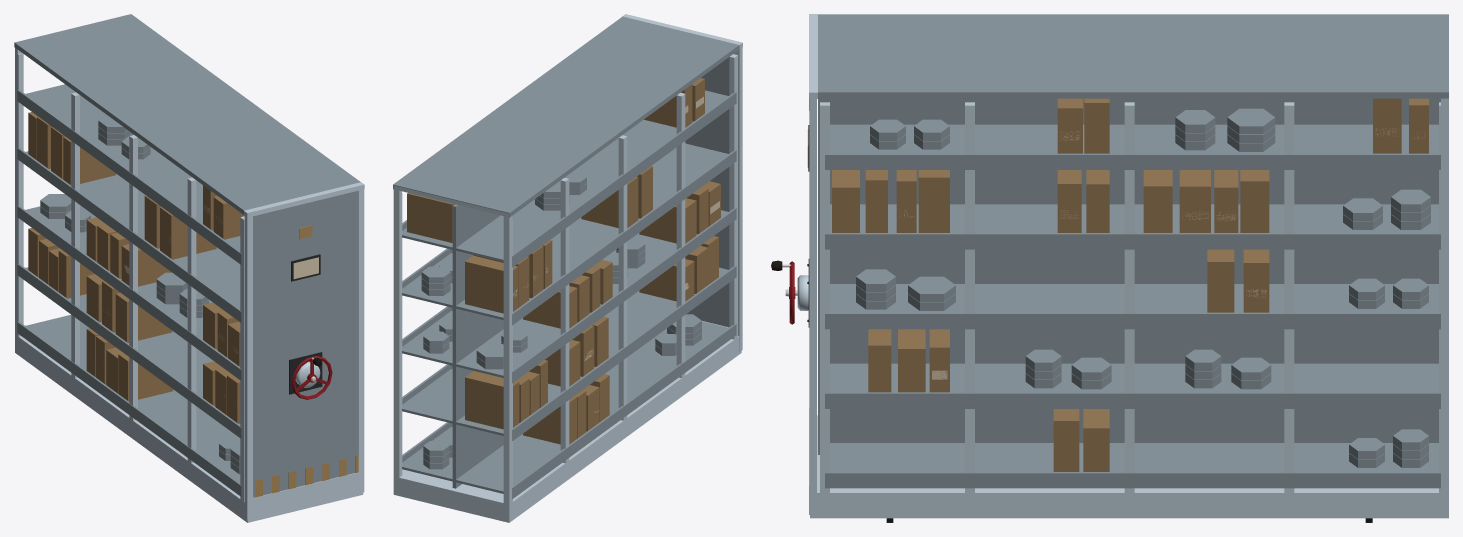
Rendered from carriage_1.glb.
3 renders of one model, left to right at view 1: azimuth 30°, elevation 25°; view 2: azimuth 150°, elevation 25°; view 3: azimuth 270°, elevation 25°, orthographic. The views are drawn at different scales.
Parts seen in each view (by area): view 1: carriage_body, IA_crank, end_tag; view 2: carriage_body; view 3: carriage_body.
Boxes of the visible parts, bbox=[...] form: carriage_body: bbox=[14, 14, 364, 522]; IA_crank: bbox=[291, 356, 332, 399]; end_tag: bbox=[293, 257, 318, 279]; carriage_body: bbox=[393, 14, 742, 522]; carriage_body: bbox=[795, 14, 1448, 522].
Bounding box in the file's own units: 0.932 × 2.45 × 3.4.
